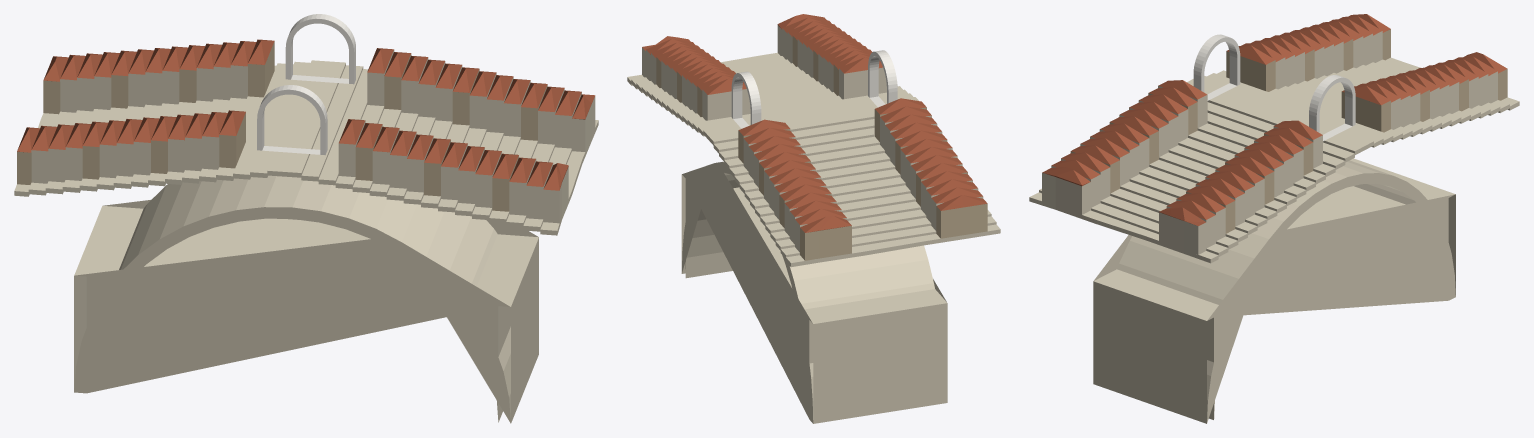
The model's file is rialto.glb.
3 renders of one model, left to right at view 1: azimuth 30°, elevation 25°; view 2: azimuth 150°, elevation 25°; view 3: azimuth 270°, elevation 25°, orthographic. The views are drawn at different scales.
Parts seen in each view (by area): view 1: open-bridge-arches, bridge-shops (×2), bridge-deck, shop-roofs, central-porticoes; view 2: open-bridge-arches, bridge-deck, shop-roofs, bridge-shops (×2), central-porticoes; view 3: open-bridge-arches, bridge-deck, bridge-shops (×2), shop-roofs, central-porticoes.
Boxes of the visible parts, left/top/right/bottom form: open-bridge-arches: left=74, top=175, right=538, bottom=423; bridge-shops (×2): left=17, top=41, right=595, bottom=223; bridge-deck: left=14, top=60, right=598, bottom=235; shop-roofs: left=17, top=39, right=595, bottom=190; central-porticoes: left=257, top=14, right=355, bottom=155; open-bridge-arches: left=681, top=161, right=947, bottom=423; bridge-deck: left=627, top=52, right=1000, bottom=267; shop-roofs: left=642, top=14, right=987, bottom=232; bridge-shops (×2): left=642, top=25, right=987, bottom=260; central-porticoes: left=731, top=50, right=897, bottom=128; open-bridge-arches: left=1093, top=158, right=1455, bottom=423; bridge-deck: left=1029, top=57, right=1519, bottom=263; bridge-shops (×2): left=1042, top=29, right=1507, bottom=254; shop-roofs: left=1042, top=14, right=1507, bottom=225; central-porticoes: left=1193, top=34, right=1355, bottom=141.
Size of the model in its own units: 16 by 9.62 by 15.11.
